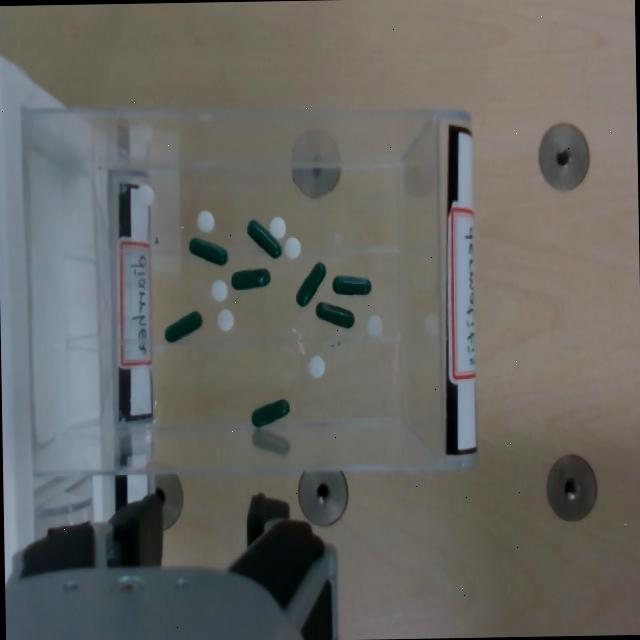ganakan_tab: (282, 234, 302, 261), (195, 208, 216, 233), (268, 214, 287, 240), (307, 355, 325, 379), (216, 308, 234, 331), (366, 313, 383, 336), (210, 278, 227, 301), (308, 355, 325, 377), (284, 236, 301, 258), (269, 217, 286, 239), (217, 309, 234, 330), (211, 280, 228, 301), (198, 210, 214, 232), (367, 313, 382, 336)
monodoxy_cap: (294, 260, 327, 306), (246, 216, 282, 258), (163, 309, 203, 344), (250, 396, 291, 428), (248, 219, 281, 257), (188, 235, 228, 266), (297, 262, 325, 305), (314, 299, 354, 329), (165, 311, 203, 342), (252, 398, 289, 426), (190, 238, 227, 265), (230, 267, 271, 291), (317, 302, 354, 328), (331, 274, 371, 297), (333, 275, 371, 295), (232, 268, 270, 288)
